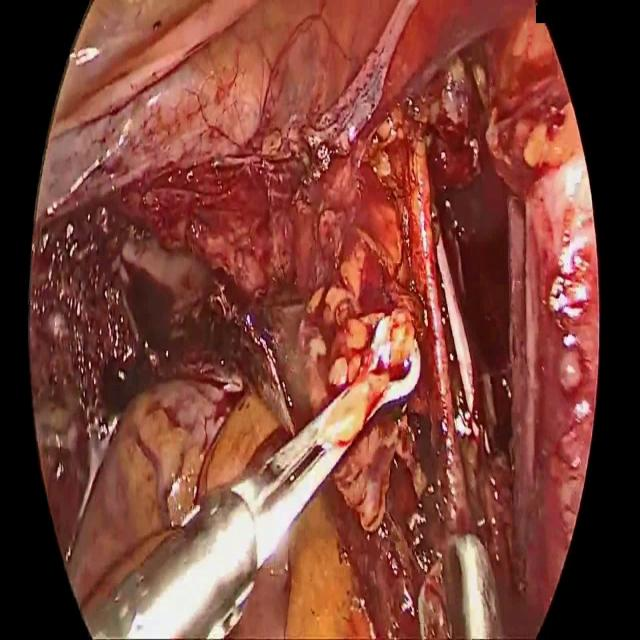surgical-area: (26, 0, 598, 639)
surgical-tool: (82, 338, 420, 639), (446, 532, 503, 639)
